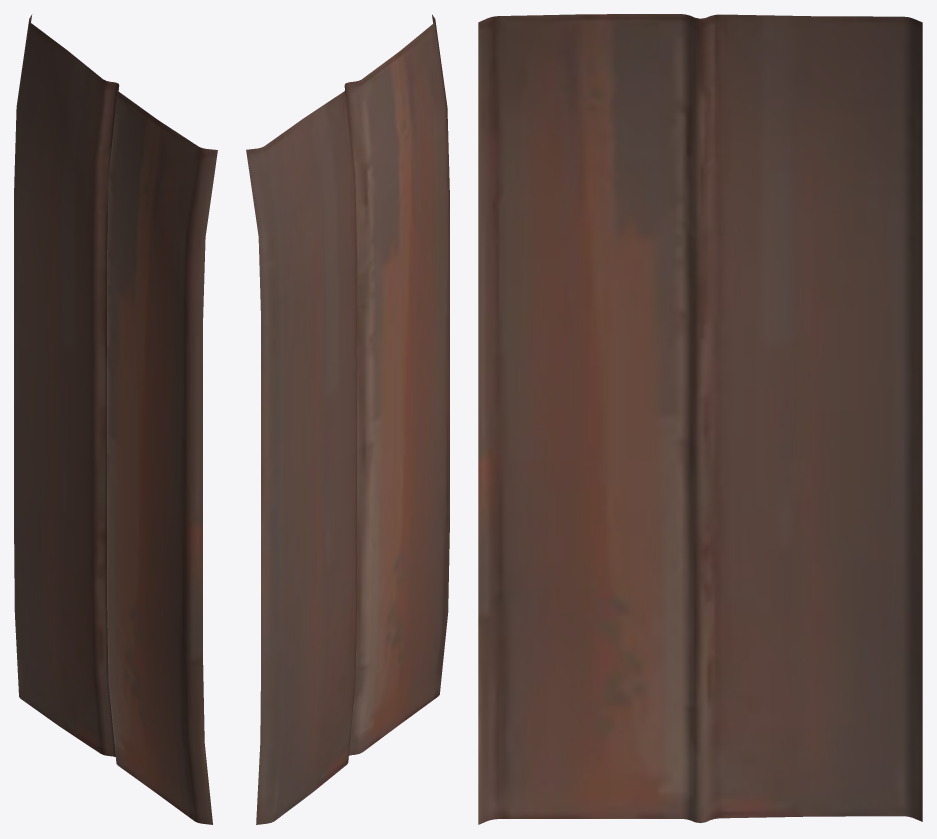
3 views of the same model, side by side, from view 1: azimuth 30°, elevation 25°; view 2: azimuth 150°, elevation 25°; view 3: azimuth 270°, elevation 25° (orthographic). The views are drawn at different scales.
Visible parts, largest first — view 1: body0_model0_lod0_mesh0; view 2: body0_model0_lod0_mesh0; view 3: body0_model0_lod0_mesh0.
Part boxes in pixels (x1,y1,x2,y2): body0_model0_lod0_mesh0: [14, 14, 217, 824]; body0_model0_lod0_mesh0: [246, 14, 449, 824]; body0_model0_lod0_mesh0: [478, 14, 922, 824].
Size of the model in its own units: 5 by 128 by 64.01.
1 material, 1 textured.
